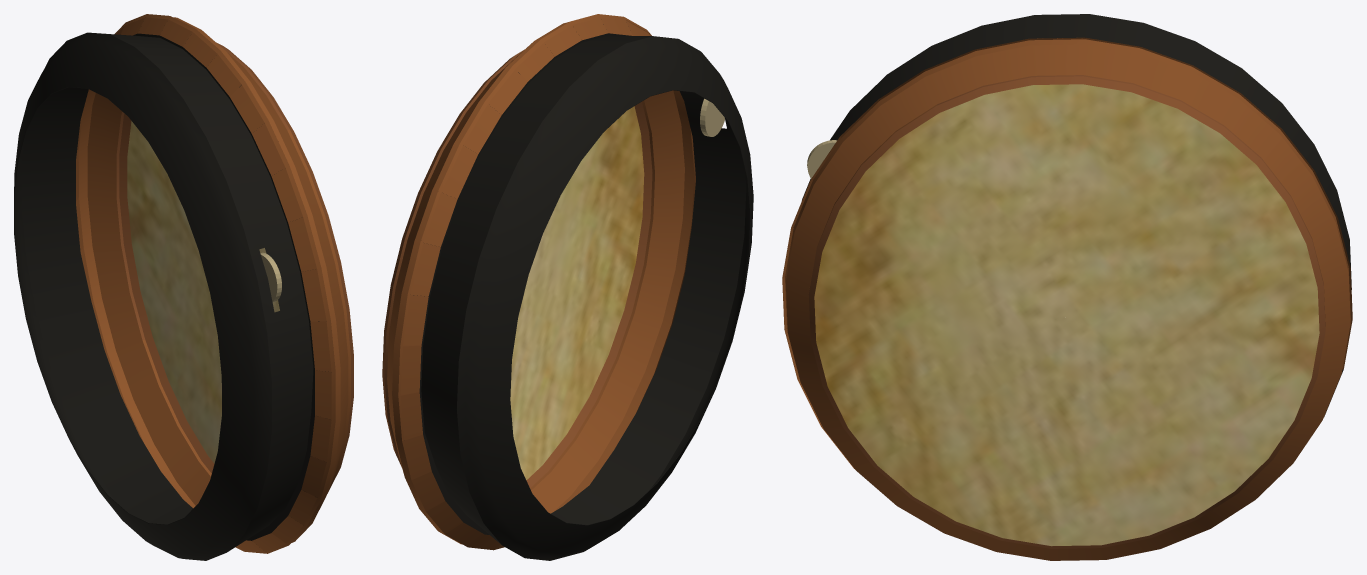
The model's file is SM_Rapai_01.fbx.
3 renders of one model, left to right at view 1: azimuth 30°, elevation 25°; view 2: azimuth 150°, elevation 25°; view 3: azimuth 270°, elevation 25°, orthographic. The views are drawn at different scales.
Parts seen in each view (by area): view 1: Circle; view 2: Circle; view 3: Circle.
Boxes of the visible parts, <box> form: Circle: <box>14,14,353,560</box>; Circle: <box>382,14,753,560</box>; Circle: <box>782,14,1352,560</box>.
Bounding box in the file's own units: 14.79 × 50.31 × 50.28.
